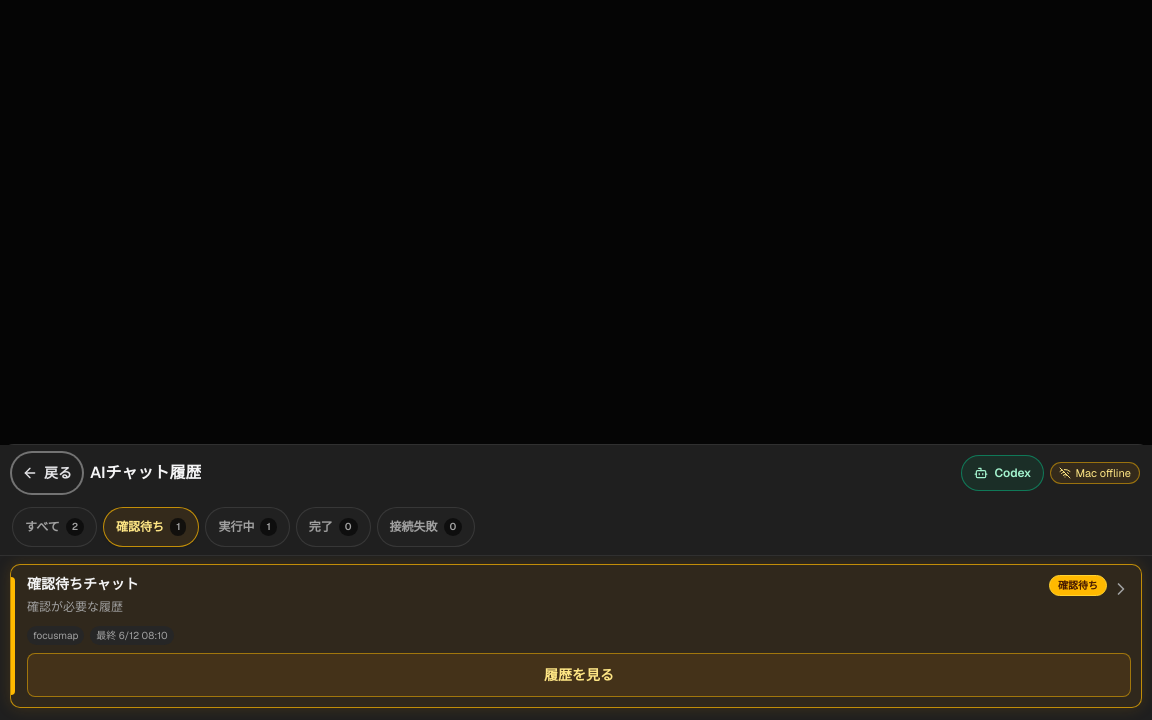
Test case: TaskProgressKanban › スマホAIチャット履歴はステータス横スクロールタブで絞り込める
expect the text "確認待ちチャット" is shown: met, box [27, 575, 139, 593]
expect the text "実行中チャット" is not shown: met
Click the tab with aria-label "実行中 1件": [248, 527] box [205, 507, 290, 547]
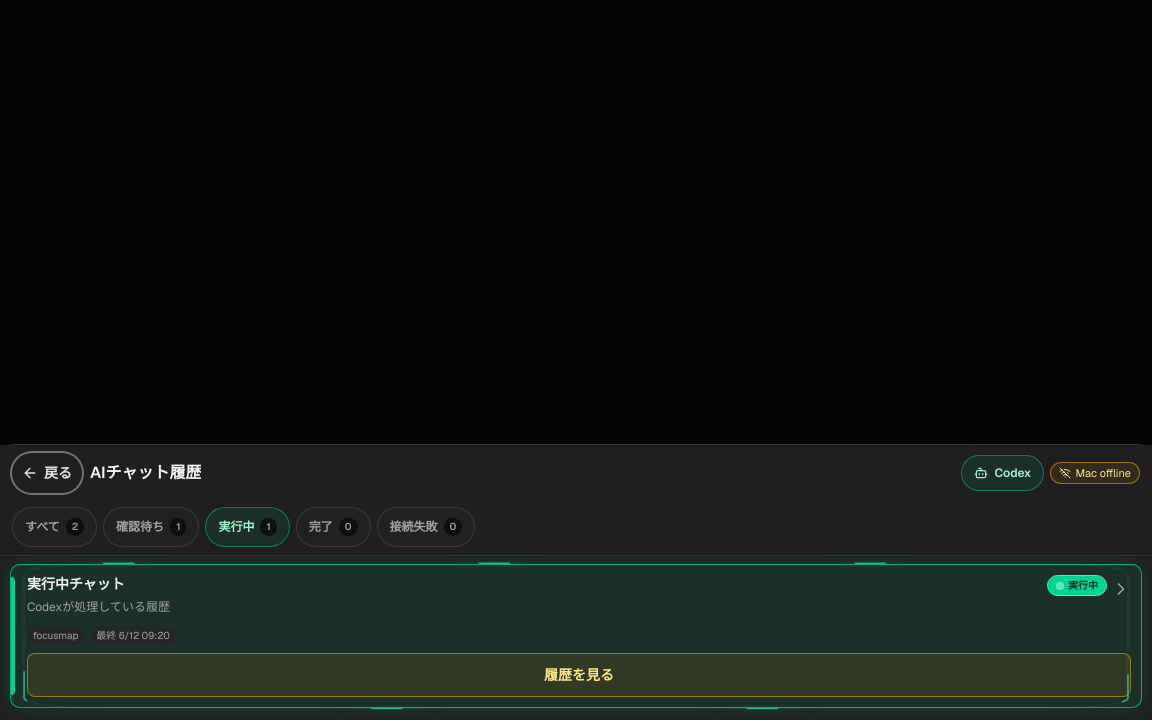
expect the text "実行中チャット" is shown: met, box [27, 575, 125, 593]
expect the button "確認待ちチャット" is gone: met
Click the tab with aria-label "すべて 2件": [55, 527] box [12, 507, 97, 547]
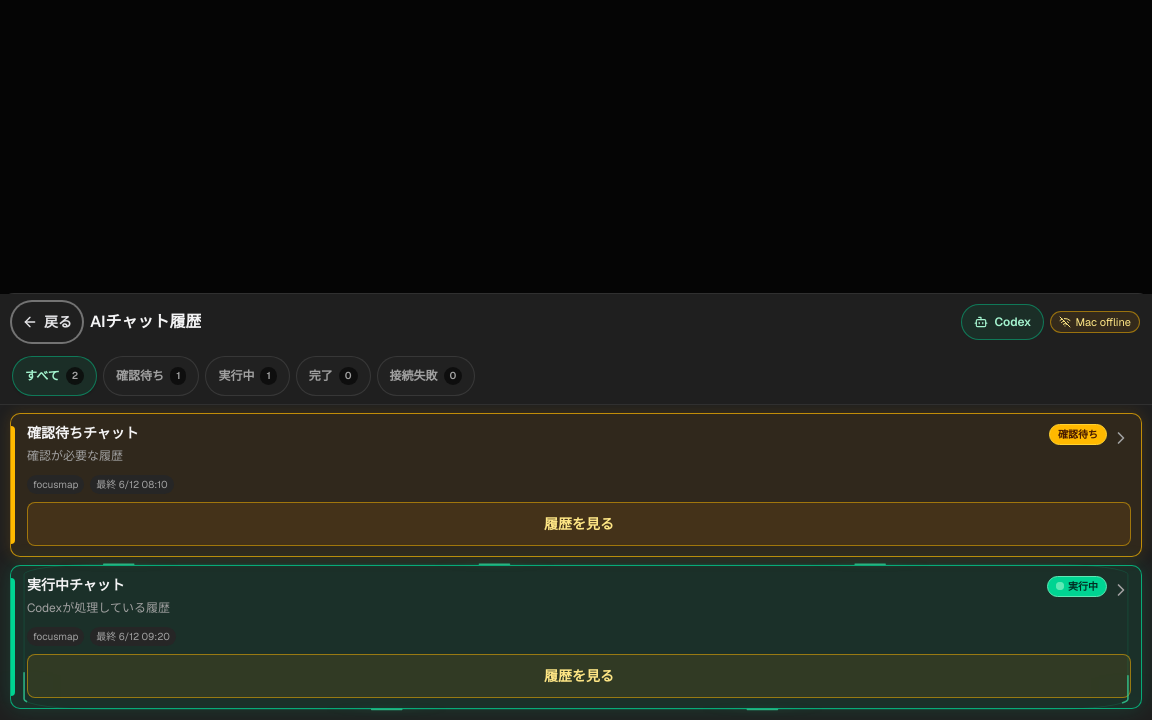
expect the text "実行中チャット" is shown: met, box [27, 575, 125, 593]
expect the text "確認待ちチャット" is shown: met, box [27, 424, 139, 442]
